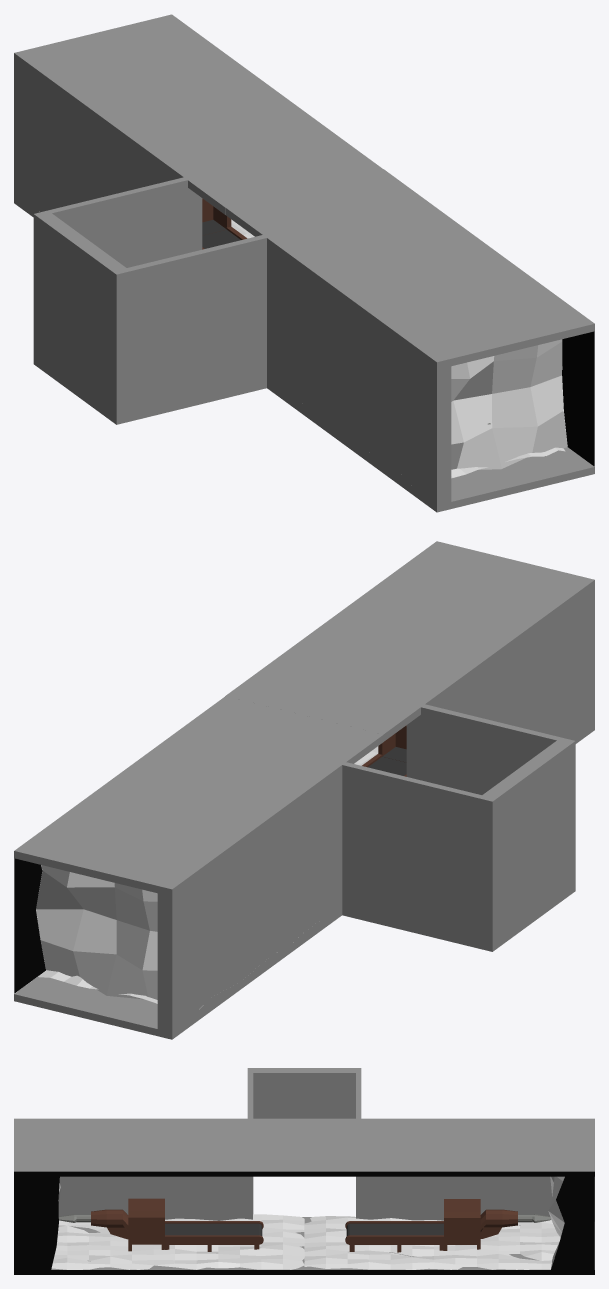
The model's file is Mine_test.fbx.
The picture shows the model from 3 angles, top to bottom: view 1: azimuth 30°, elevation 25°; view 2: azimuth 150°, elevation 25°; view 3: azimuth 270°, elevation 25°; orthographic projection. The views are drawn at different scales.
Visible parts, largest first — view 1: minenschacht_links, minenschacht_rechts, fahrstuhlschacht, rohstoffwand_links, Plane, abbaumaschine_stufe1_rechts; view 2: minenschacht_rechts, minenschacht_links, fahrstuhlschacht, rohstoffwand_rechts, Plane.001, abbaumaschine_stufe1_links; view 3: minenschacht_rechts, minenschacht_links, rohstoffboden_rechts, rohstoffboden_links, fahrstuhlschacht, Plane, Plane.001, laufband_stufe1_rechts, laufband_stufe1_links, abbaumaschine_stufe1_links, abbaumaschine_stufe1_rechts, bohrer_stufe1_rechts (+2 smaller).
Boxes of the visible parts, left/top/right/bottom form: minenschacht_links: left=225, top=169, right=594, bottom=512; minenschacht_rechts: left=14, top=14, right=382, bottom=252; fahrstuhlschacht: left=33, top=177, right=266, bottom=424; rohstoffwand_links: left=451, top=339, right=567, bottom=469; Plane: left=562, top=331, right=594, bottom=466; abbaumaschine_stufe1_rechts: left=202, top=198, right=231, bottom=235; minenschacht_rechts: left=14, top=696, right=383, bottom=1039; minenschacht_links: left=225, top=541, right=594, bottom=780; fahrstuhlschacht: left=342, top=704, right=575, bottom=951; rohstoffwand_rechts: left=36, top=865, right=157, bottom=999; Plane.001: left=14, top=858, right=45, bottom=993; abbaumaschine_stufe1_links: left=378, top=725, right=406, bottom=762; minenschacht_rechts: left=304, top=1118, right=594, bottom=1274; minenschacht_links: left=14, top=1118, right=304, bottom=1274; rohstoffboden_rechts: left=304, top=1216, right=560, bottom=1269; rohstoffboden_links: left=51, top=1214, right=304, bottom=1269; fahrstuhlschacht: left=247, top=1068, right=361, bottom=1213; Plane: left=14, top=1176, right=59, bottom=1269; Plane.001: left=551, top=1176, right=594, bottom=1269; laufband_stufe1_rechts: left=345, top=1221, right=444, bottom=1252; laufband_stufe1_links: left=164, top=1221, right=263, bottom=1251; abbaumaschine_stufe1_links: left=128, top=1198, right=164, bottom=1251; abbaumaschine_stufe1_rechts: left=444, top=1199, right=480, bottom=1250; bohrer_stufe1_rechts: left=480, top=1209, right=517, bottom=1238.
Bounding box in the file's own units: 430 × 200 × 1020.
